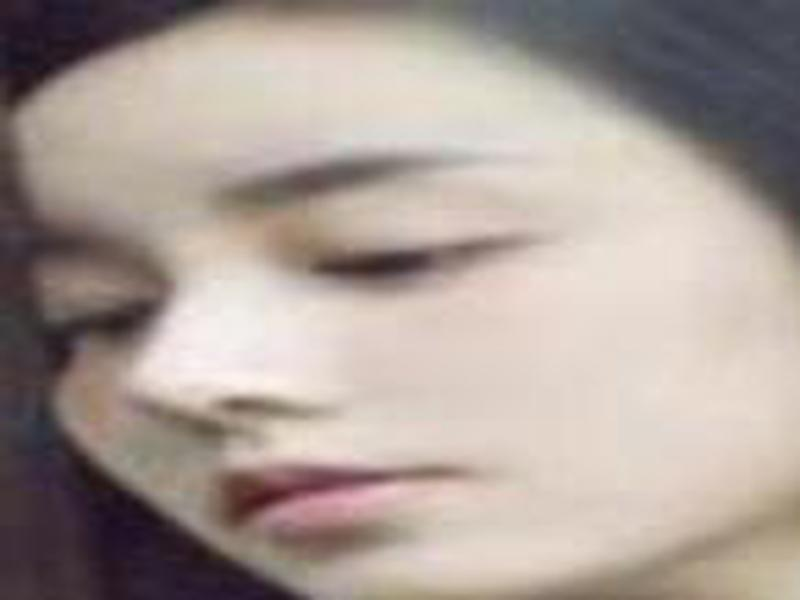without_mask: (6, 25, 736, 582)
